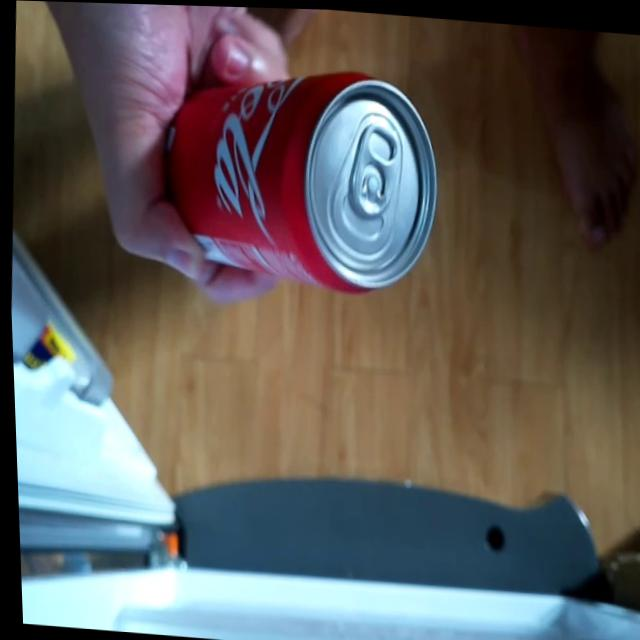coke: (145, 37, 452, 314)
